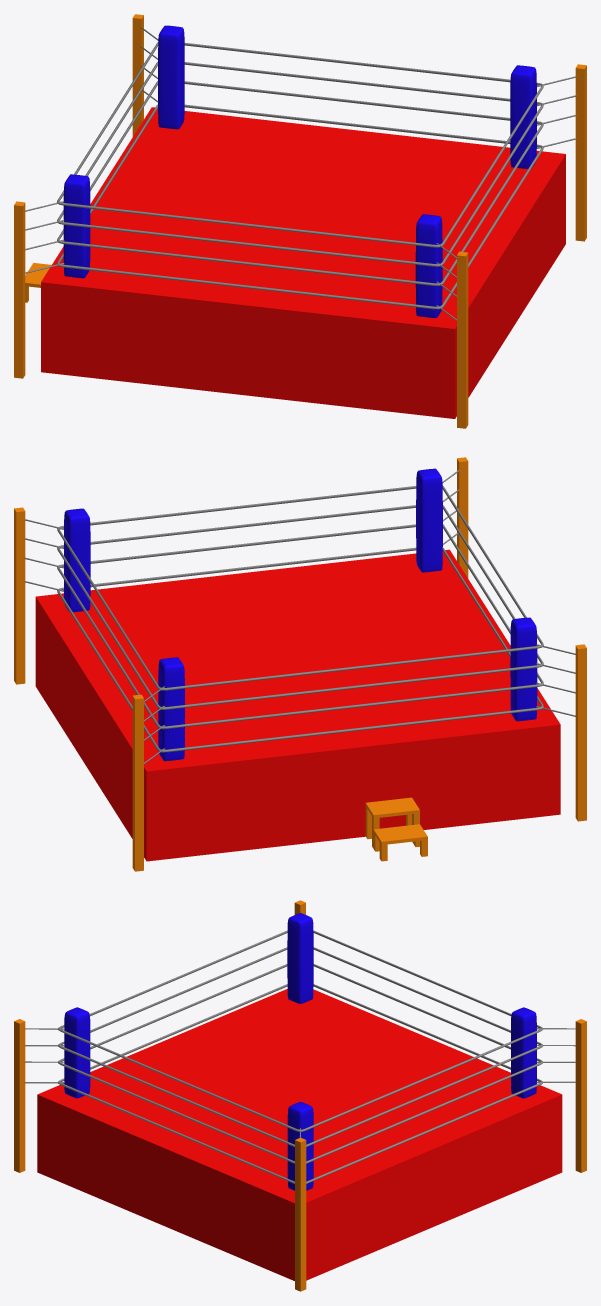
3 renders of one model, top to bottom at view 1: azimuth 30°, elevation 25°; view 2: azimuth 150°, elevation 25°; view 3: azimuth 270°, elevation 25°, orthographic. The views are drawn at different scales.
Parts seen in each view (by area): view 1: Cube.047, Cube.034, Cube.021, Cube.004, Cube.001, Cube.002, Cube.003; view 2: Cube.047, Cube.034, Cube.021, Cube.002, Cube.001, Cube.004, Cube.003, Cube.048, Cube.049; view 3: Cube.047, Cube.034, Cube.021, Cube.001, Cube.002, Cube.004, Cube.003.
Part boxes in pixels (box(x1,y1,x2,y2)): Cube.047: box(41, 107, 565, 418); Cube.034: box(25, 27, 576, 320); Cube.021: box(14, 14, 586, 428); Cube.004: box(158, 25, 184, 129); Cube.001: box(63, 174, 90, 278); Cube.002: box(415, 214, 442, 318); Cube.003: box(510, 65, 536, 168); Cube.047: box(35, 549, 560, 861); Cube.034: box(24, 470, 575, 764); Cube.021: box(14, 457, 586, 871); Cube.002: box(416, 468, 442, 572); Cube.001: box(510, 617, 537, 721); Cube.004: box(158, 657, 184, 761); Cube.003: box(64, 508, 90, 612); Cube.048: box(365, 797, 419, 848); Cube.049: box(373, 824, 427, 861); Cube.047: box(37, 989, 562, 1280); Cube.034: box(24, 912, 575, 1183); Cube.021: box(14, 900, 586, 1291); Cube.001: box(287, 913, 313, 1003); Cube.002: box(64, 1007, 90, 1098); Cube.004: box(511, 1007, 536, 1098); Cube.003: box(287, 1101, 313, 1190).
Bounding box in the file's own units: 91.64 × 28.21 × 91.64.
